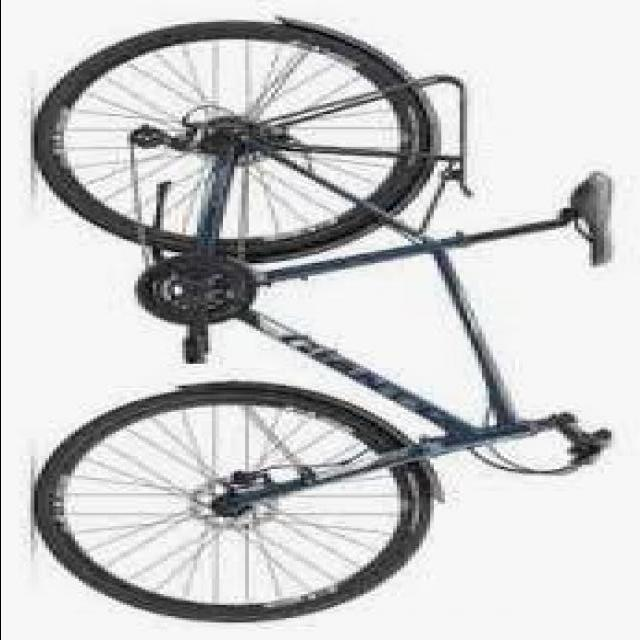bicycle: (34, 25, 626, 630)
